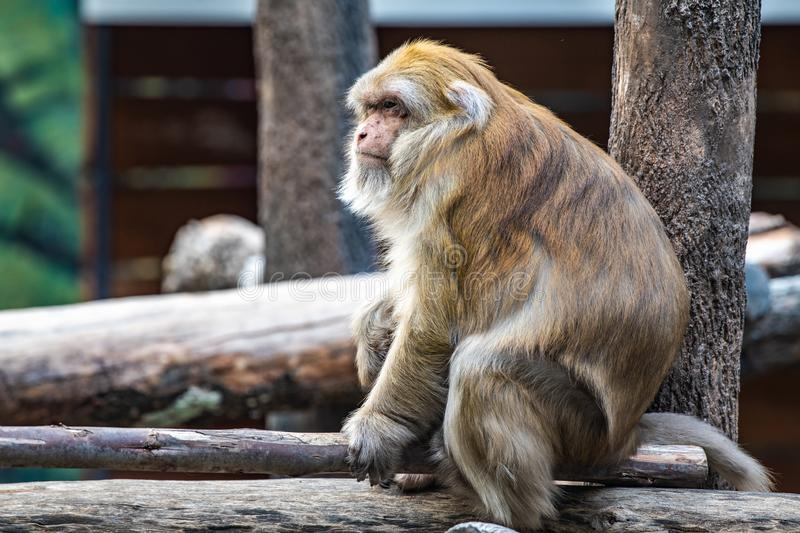monkey: (319, 21, 783, 533)
